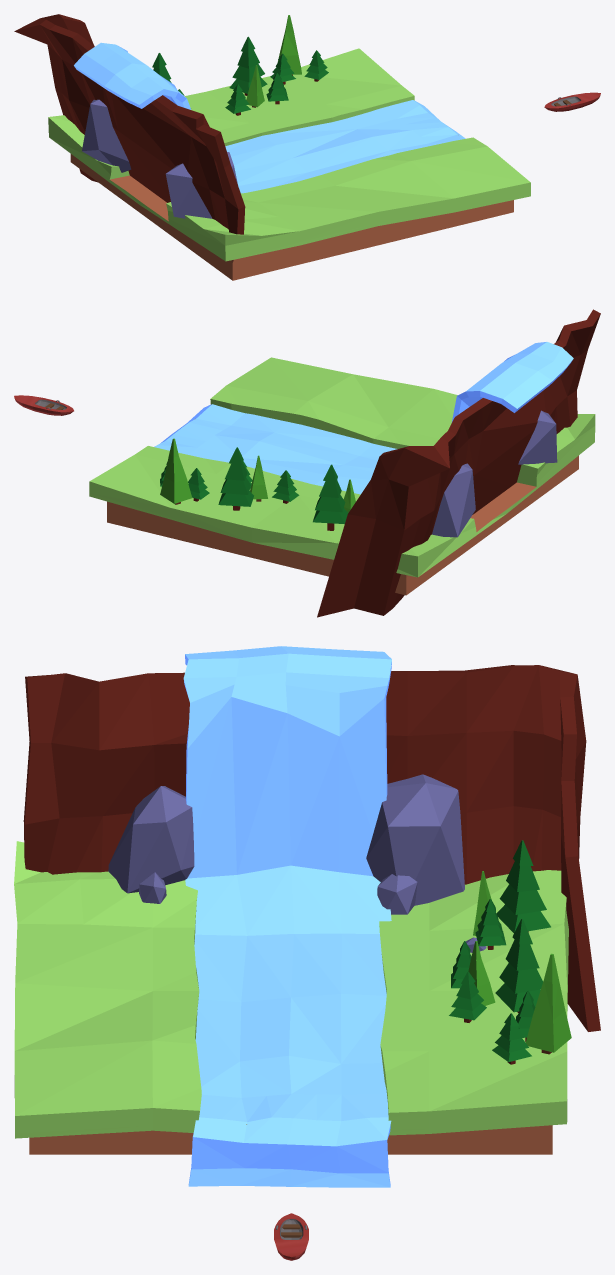
Rendered from waterfallV1.glb.
The picture shows the model from 3 angles, top to bottom: view 1: azimuth 30°, elevation 25°; view 2: azimuth 150°, elevation 25°; view 3: azimuth 270°, elevation 25°; orthographic projection. The views are drawn at different scales.
Visible parts, largest first — view 1: Flor, Cliff, River, Roc 2.001, Roc 2, Arbre 2.008, Arbre 1.002, Boat, Arbre 1.001, Arbre 2, Arbre 2.002, Arbre 2.006 (+1 smaller); view 2: Flor, Cliff, River, Roc 2.001, Roc 2, Arbre 2.007, Arbre 2.008, Arbre 1.002, Boat, Arbre 2, Arbre 1.001, Arbre 2.003; view 3: River, Flor, Cliff, Roc 2.001, Roc 2, Arbre 2.007, Arbre 1.002, Arbre 2.008, Roc, Boat, Arbre 2.006, Arbre 2.002 (+2 smaller).
Part boxes in pixels (box(x1,y1,x2,y2)): Flor: box(48, 48, 530, 280); Cliff: box(14, 14, 245, 234); River: box(74, 42, 465, 193); Roc 2.001: box(82, 99, 131, 172); Roc 2: box(165, 152, 238, 218); Arbre 2.008: box(229, 36, 267, 95); Arbre 1.002: box(277, 15, 301, 75); Boat: box(544, 92, 600, 111); Arbre 1.001: box(246, 65, 264, 107); Arbre 2: box(225, 84, 250, 115); Arbre 2.002: box(266, 73, 288, 104); Arbre 2.006: box(304, 50, 328, 81); Flor: box(89, 357, 595, 595); Cliff: box(317, 309, 600, 617); River: box(154, 342, 573, 494); Roc 2.001: box(432, 463, 475, 537); Roc 2: box(518, 410, 557, 464); Arbre 2.007: box(313, 464, 348, 530); Arbre 2.008: box(218, 447, 253, 510); Arbre 1.002: box(160, 438, 191, 504); Boat: box(14, 395, 73, 415); Arbre 2: box(272, 470, 299, 503); Arbre 1.001: box(250, 455, 267, 501); Arbre 2.003: box(188, 468, 209, 501); River: box(183, 646, 391, 1187); Flor: box(14, 841, 568, 1154); Cliff: box(23, 665, 600, 1031); Roc 2.001: box(366, 774, 464, 905); Roc 2: box(108, 786, 194, 893); Arbre 2.007: box(496, 840, 550, 932); Arbre 1.002: box(525, 953, 571, 1054); Arbre 2.008: box(495, 919, 542, 1013); Roc: box(377, 874, 417, 914); Boat: box(274, 1213, 308, 1260); Arbre 2.006: box(492, 1013, 531, 1064); Arbre 2.002: box(449, 971, 486, 1022).
Bounding box in the file's own units: 13.9 × 5.04 × 8.75.
13 materials, 1 textured.
